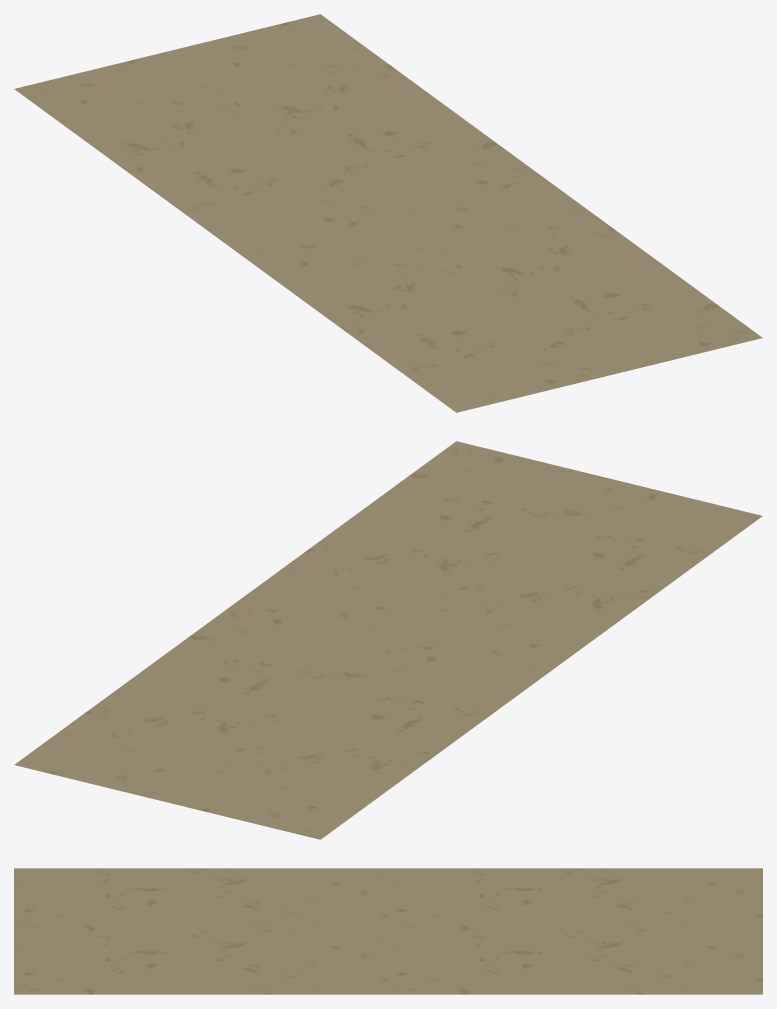
The model's file is SW_ENV_Ceiling_A_2x5m.fbx.
3 renders of one model, top to bottom at view 1: azimuth 30°, elevation 25°; view 2: azimuth 150°, elevation 25°; view 3: azimuth 270°, elevation 25°, orthographic. The views are drawn at different scales.
Visible parts, largest first — view 1: SW_ENV_Ceiling_A_2x5m; view 2: SW_ENV_Ceiling_A_2x5m; view 3: SW_ENV_Ceiling_A_2x5m.
Part boxes in pixels (box(x1,y1,x2,y2)): SW_ENV_Ceiling_A_2x5m: box(14, 14, 762, 412); SW_ENV_Ceiling_A_2x5m: box(14, 441, 762, 839); SW_ENV_Ceiling_A_2x5m: box(14, 868, 762, 994).
Bounding box in the file's own units: 200 × 1.42e-12 × 500.
